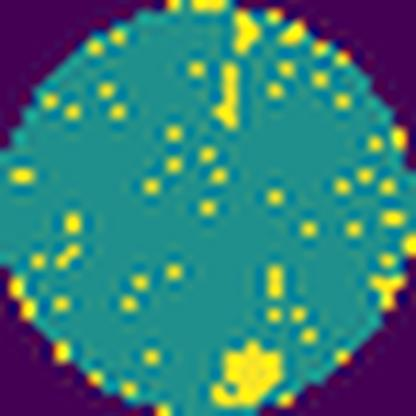Loc: (213, 343, 283, 402), (212, 60, 240, 136)
